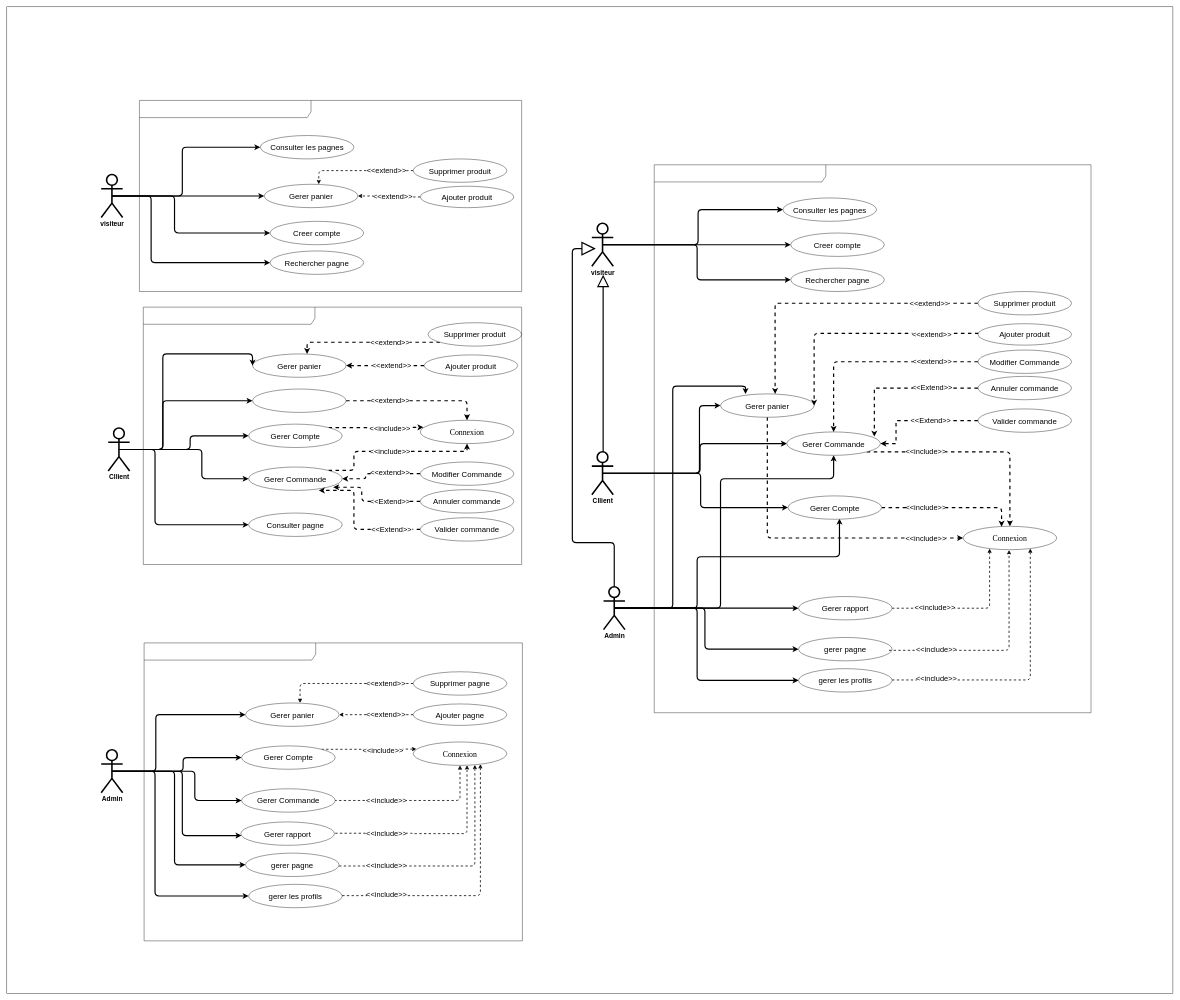
Some shapes in this 1180 by 1000 pixel diagram are drawn without their labels. The shapes that lost their labels are listed below. From the top down, each one's box as (x1, y1, x2, y2) in pixels, then its label:
(139, 100, 522, 292): Fadyl-Store cas d'utilisations visiteur
(252, 389, 346, 412): Contacter
(143, 307, 522, 565): Fadyl-Store cas d'utilisations client
(654, 164, 1091, 713): Fadyl-Store cas d'utilisations global
(144, 643, 522, 941): Fadyl-Store cas d'utilisations admin
